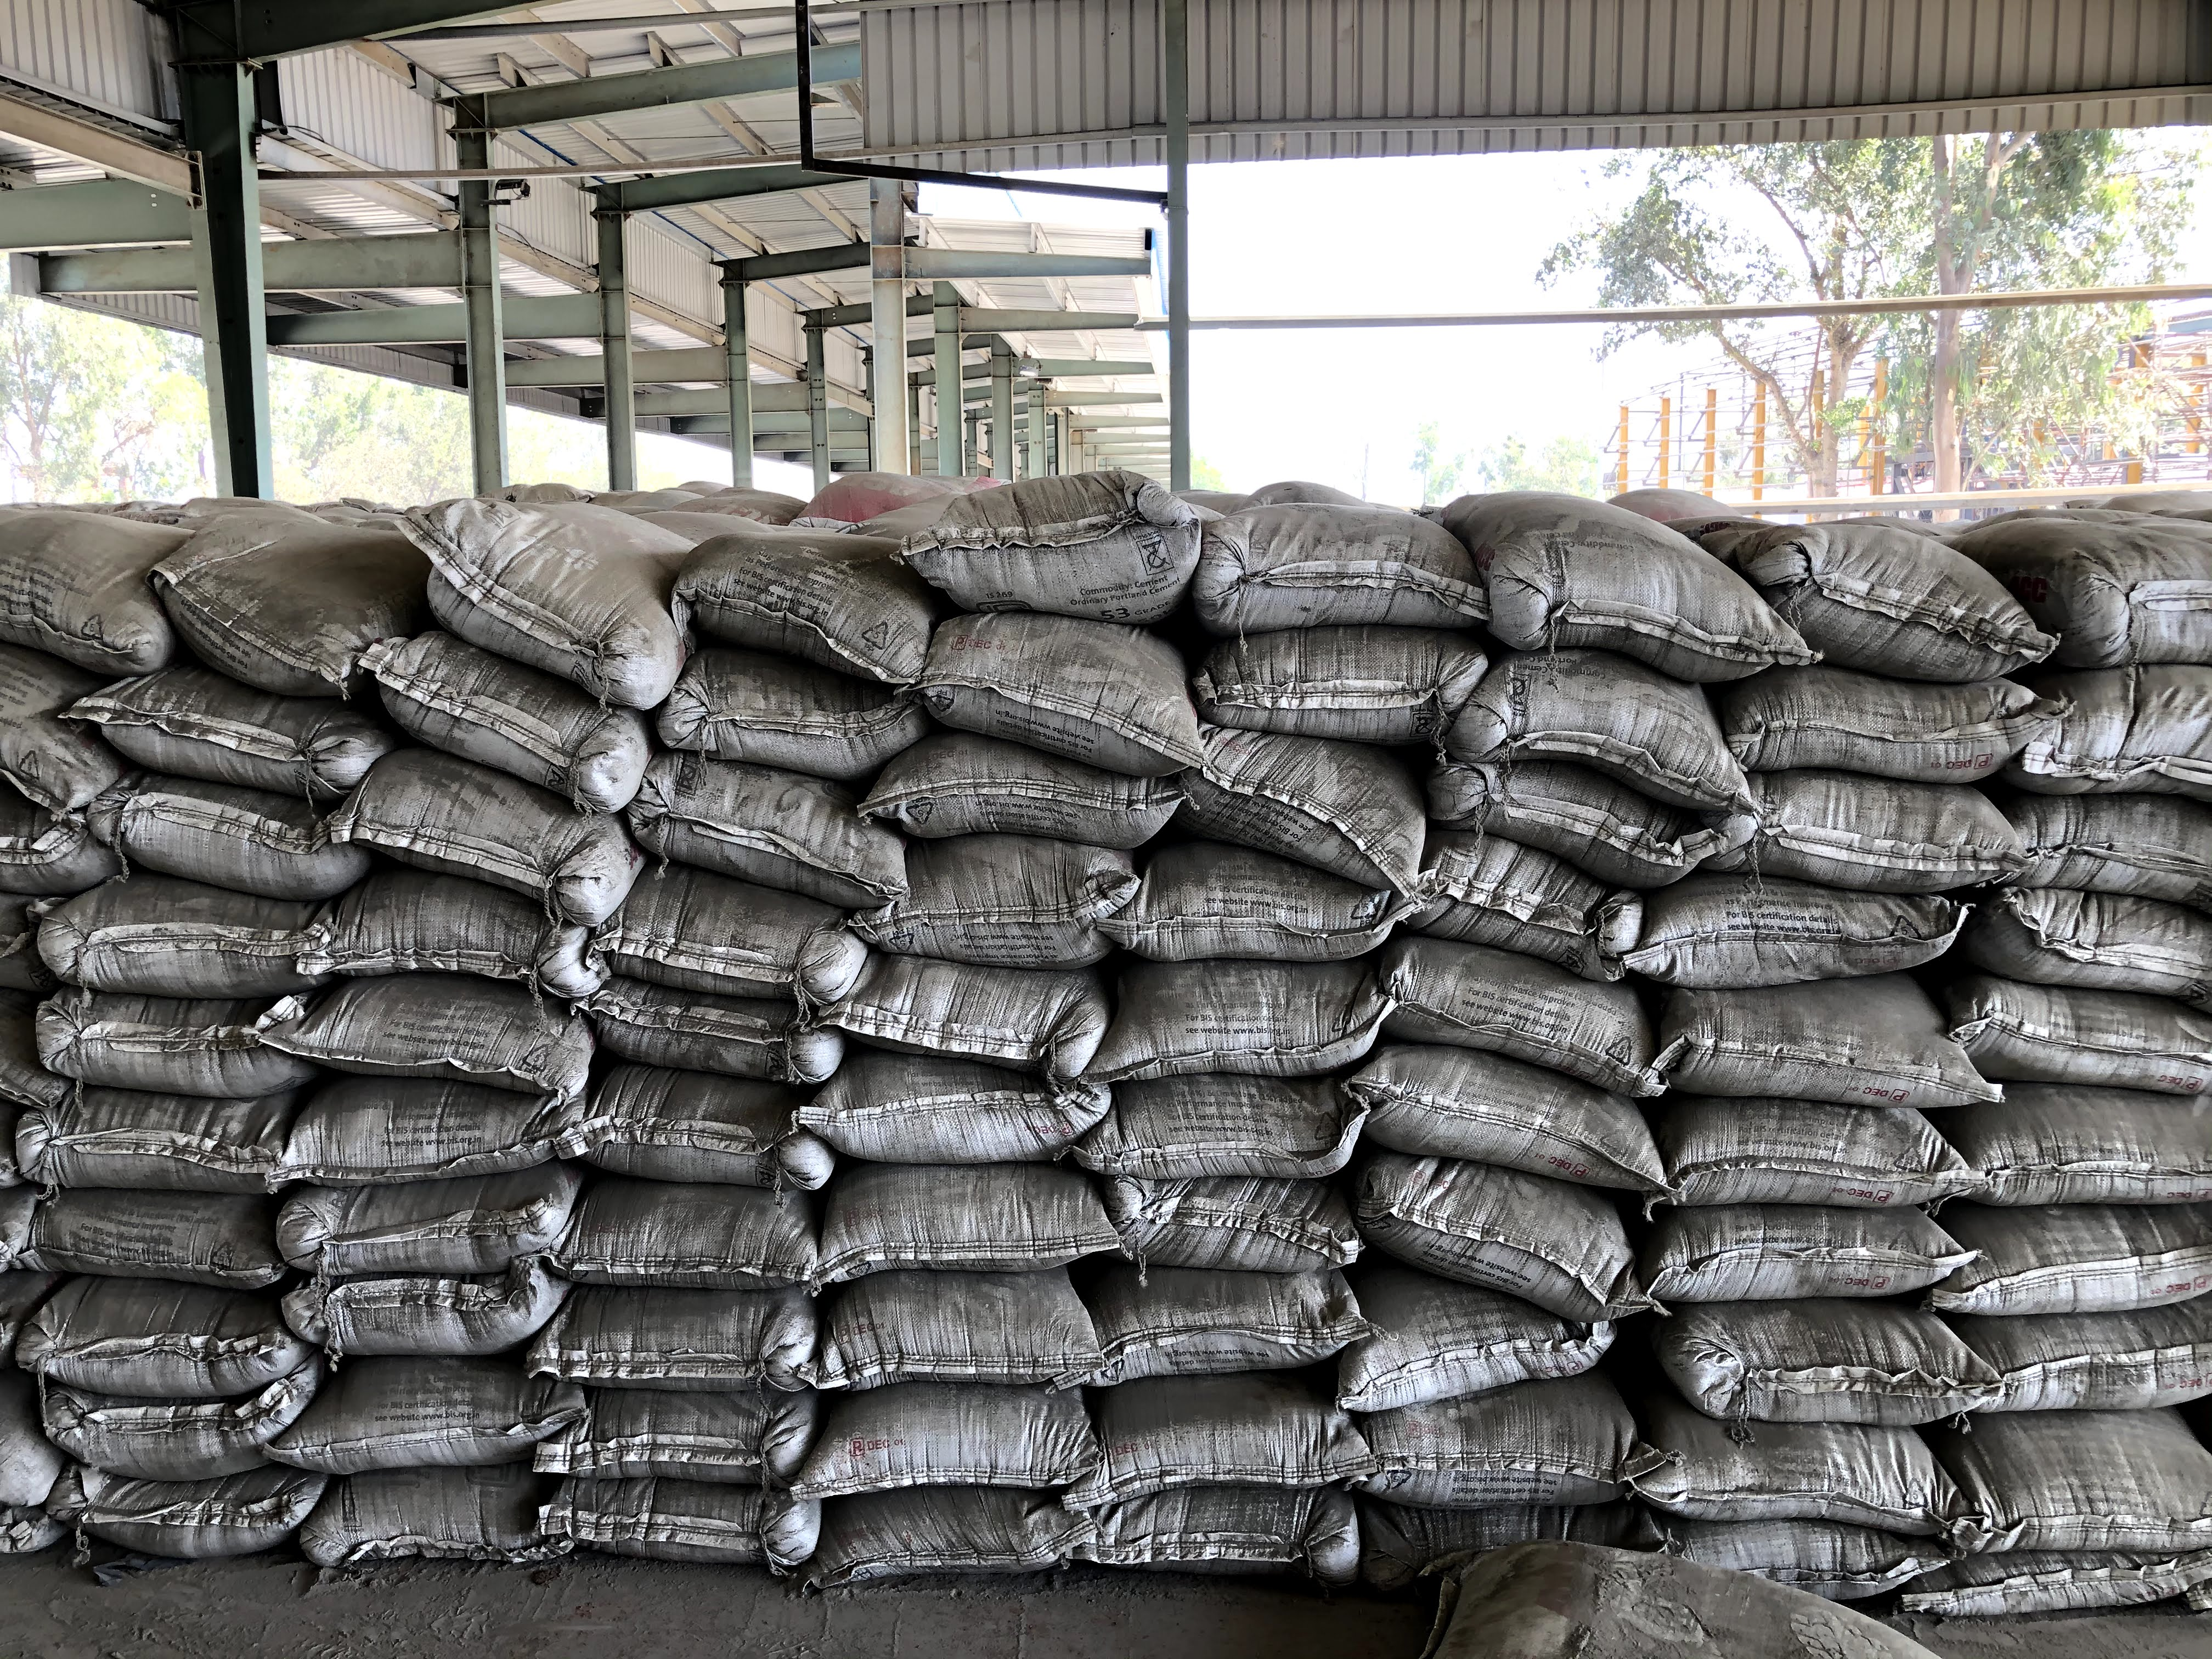cement bag: (423, 507, 688, 685), (1676, 981, 1991, 1105), (1634, 866, 2001, 971), (927, 613, 1190, 756), (1385, 972, 1653, 1101), (392, 631, 613, 784), (1738, 680, 2057, 786), (1672, 1305, 1944, 1429), (1649, 1195, 1944, 1305), (838, 962, 1096, 1082), (1090, 953, 1386, 1058), (1649, 1105, 1991, 1195), (1494, 652, 1724, 786), (554, 1481, 824, 1593), (1470, 760, 1700, 890), (1190, 633, 1477, 735), (813, 1082, 1096, 1187), (556, 1281, 808, 1398), (808, 1283, 1076, 1392), (165, 547, 355, 699), (354, 767, 575, 894), (293, 993, 564, 1096), (1090, 1058, 1348, 1166), (294, 1096, 564, 1199), (1181, 819, 1386, 953), (1672, 1429, 1958, 1525), (618, 850, 827, 981), (1076, 1368, 1327, 1476), (1076, 1476, 1348, 1574), (808, 1392, 1066, 1495), (556, 1173, 799, 1281), (888, 746, 1108, 861), (813, 1187, 1076, 1283), (1371, 1187, 1576, 1309), (35, 1180, 260, 1291), (1181, 735, 1477, 819), (1371, 1101, 1653, 1187), (932, 502, 1200, 589), (1357, 1309, 1576, 1415), (301, 1286, 533, 1385), (688, 589, 927, 685), (679, 674, 904, 775), (1385, 880, 1630, 972), (1799, 592, 2057, 680), (293, 913, 566, 993), (618, 775, 904, 850), (554, 1398, 808, 1481), (117, 697, 322, 800), (284, 1467, 526, 1554), (70, 1070, 260, 1180), (294, 1199, 533, 1286), (1357, 1415, 1592, 1502), (101, 800, 322, 890), (35, 1291, 263, 1378), (617, 981, 827, 1072), (1096, 1286, 1327, 1368), (843, 861, 1108, 932), (63, 1469, 284, 1554), (617, 1072, 799, 1173), (301, 1385, 526, 1467), (1777, 784, 2001, 866), (63, 1378, 263, 1469), (1494, 592, 1799, 652), (101, 890, 282, 990), (833, 1495, 1066, 1572), (1348, 1502, 1592, 1574), (70, 990, 282, 1070), (1108, 1201, 1346, 1267), (1710, 1525, 1958, 1588), (1200, 547, 1477, 589)
